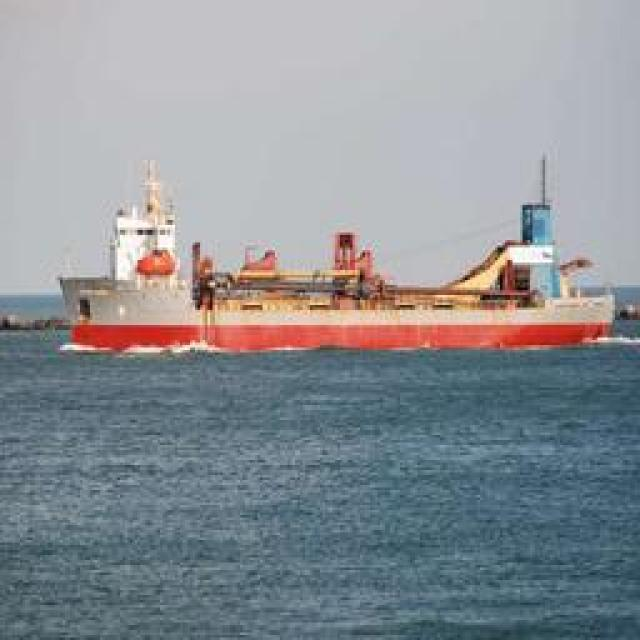CIV_Ship: (48, 236, 612, 356)
